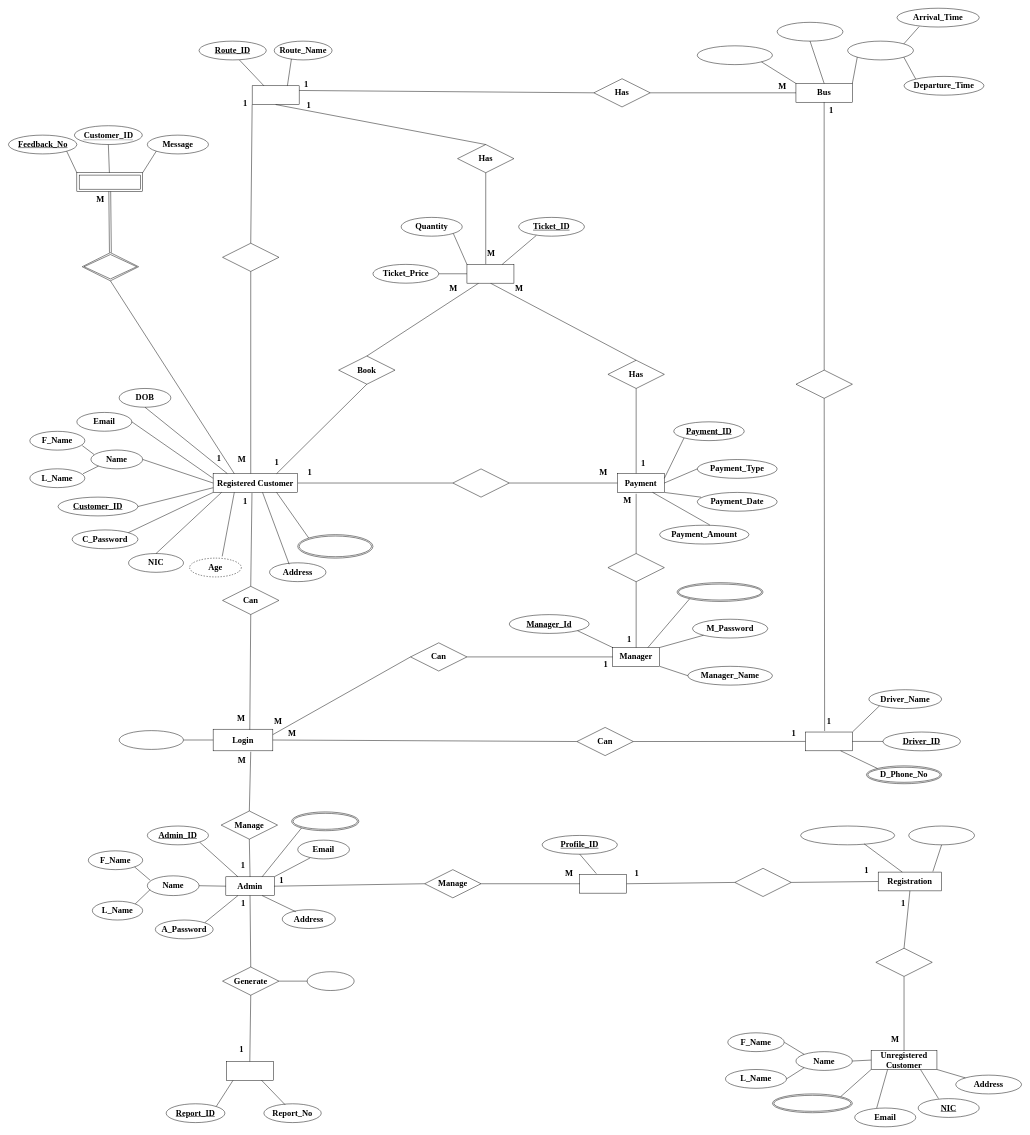
The diagram is 1030 pixels wide and 1135 high, and some of its shapes have lost their labels. The shapes that lost their labels are listed below. From the top down, each one's centre as x and y in pixels, then its label:
At (x=810, y=31): "Bus_ID".
At (x=880, y=50): "Bus_Time".
At (x=734, y=55): "Bus_No".
At (x=275, y=95): "Route".
At (x=109, y=182): "Feedback".
At (x=110, y=266): "Give".
At (x=250, y=257): "Select".
At (x=490, y=273): "Ticket".
At (x=824, y=384): "Drive".
At (x=480, y=482): "Make".
At (x=335, y=546): "Cus_Phone_No".
At (x=635, y=567): "Verify".
At (x=720, y=591): "M_Phone_No".
At (x=151, y=739): "Login_No".
At (x=828, y=741): "Driver".
At (x=325, y=821): "A_Phone_No".
At (x=847, y=835): "Registration_ID".
At (x=941, y=835): "R_Date".
At (x=603, y=883): "Profile".
At (x=762, y=882): "Create".
At (x=330, y=981): "Date".
At (x=903, y=962): "Do".
At (x=249, y=1070): "Report".
At (x=812, y=1103): "P_Phone_No".
